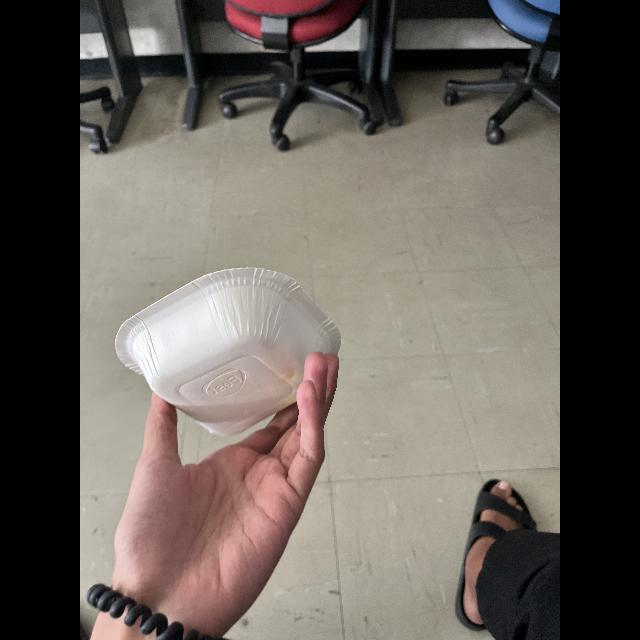cardboard_bowl: (109, 265, 347, 449)
